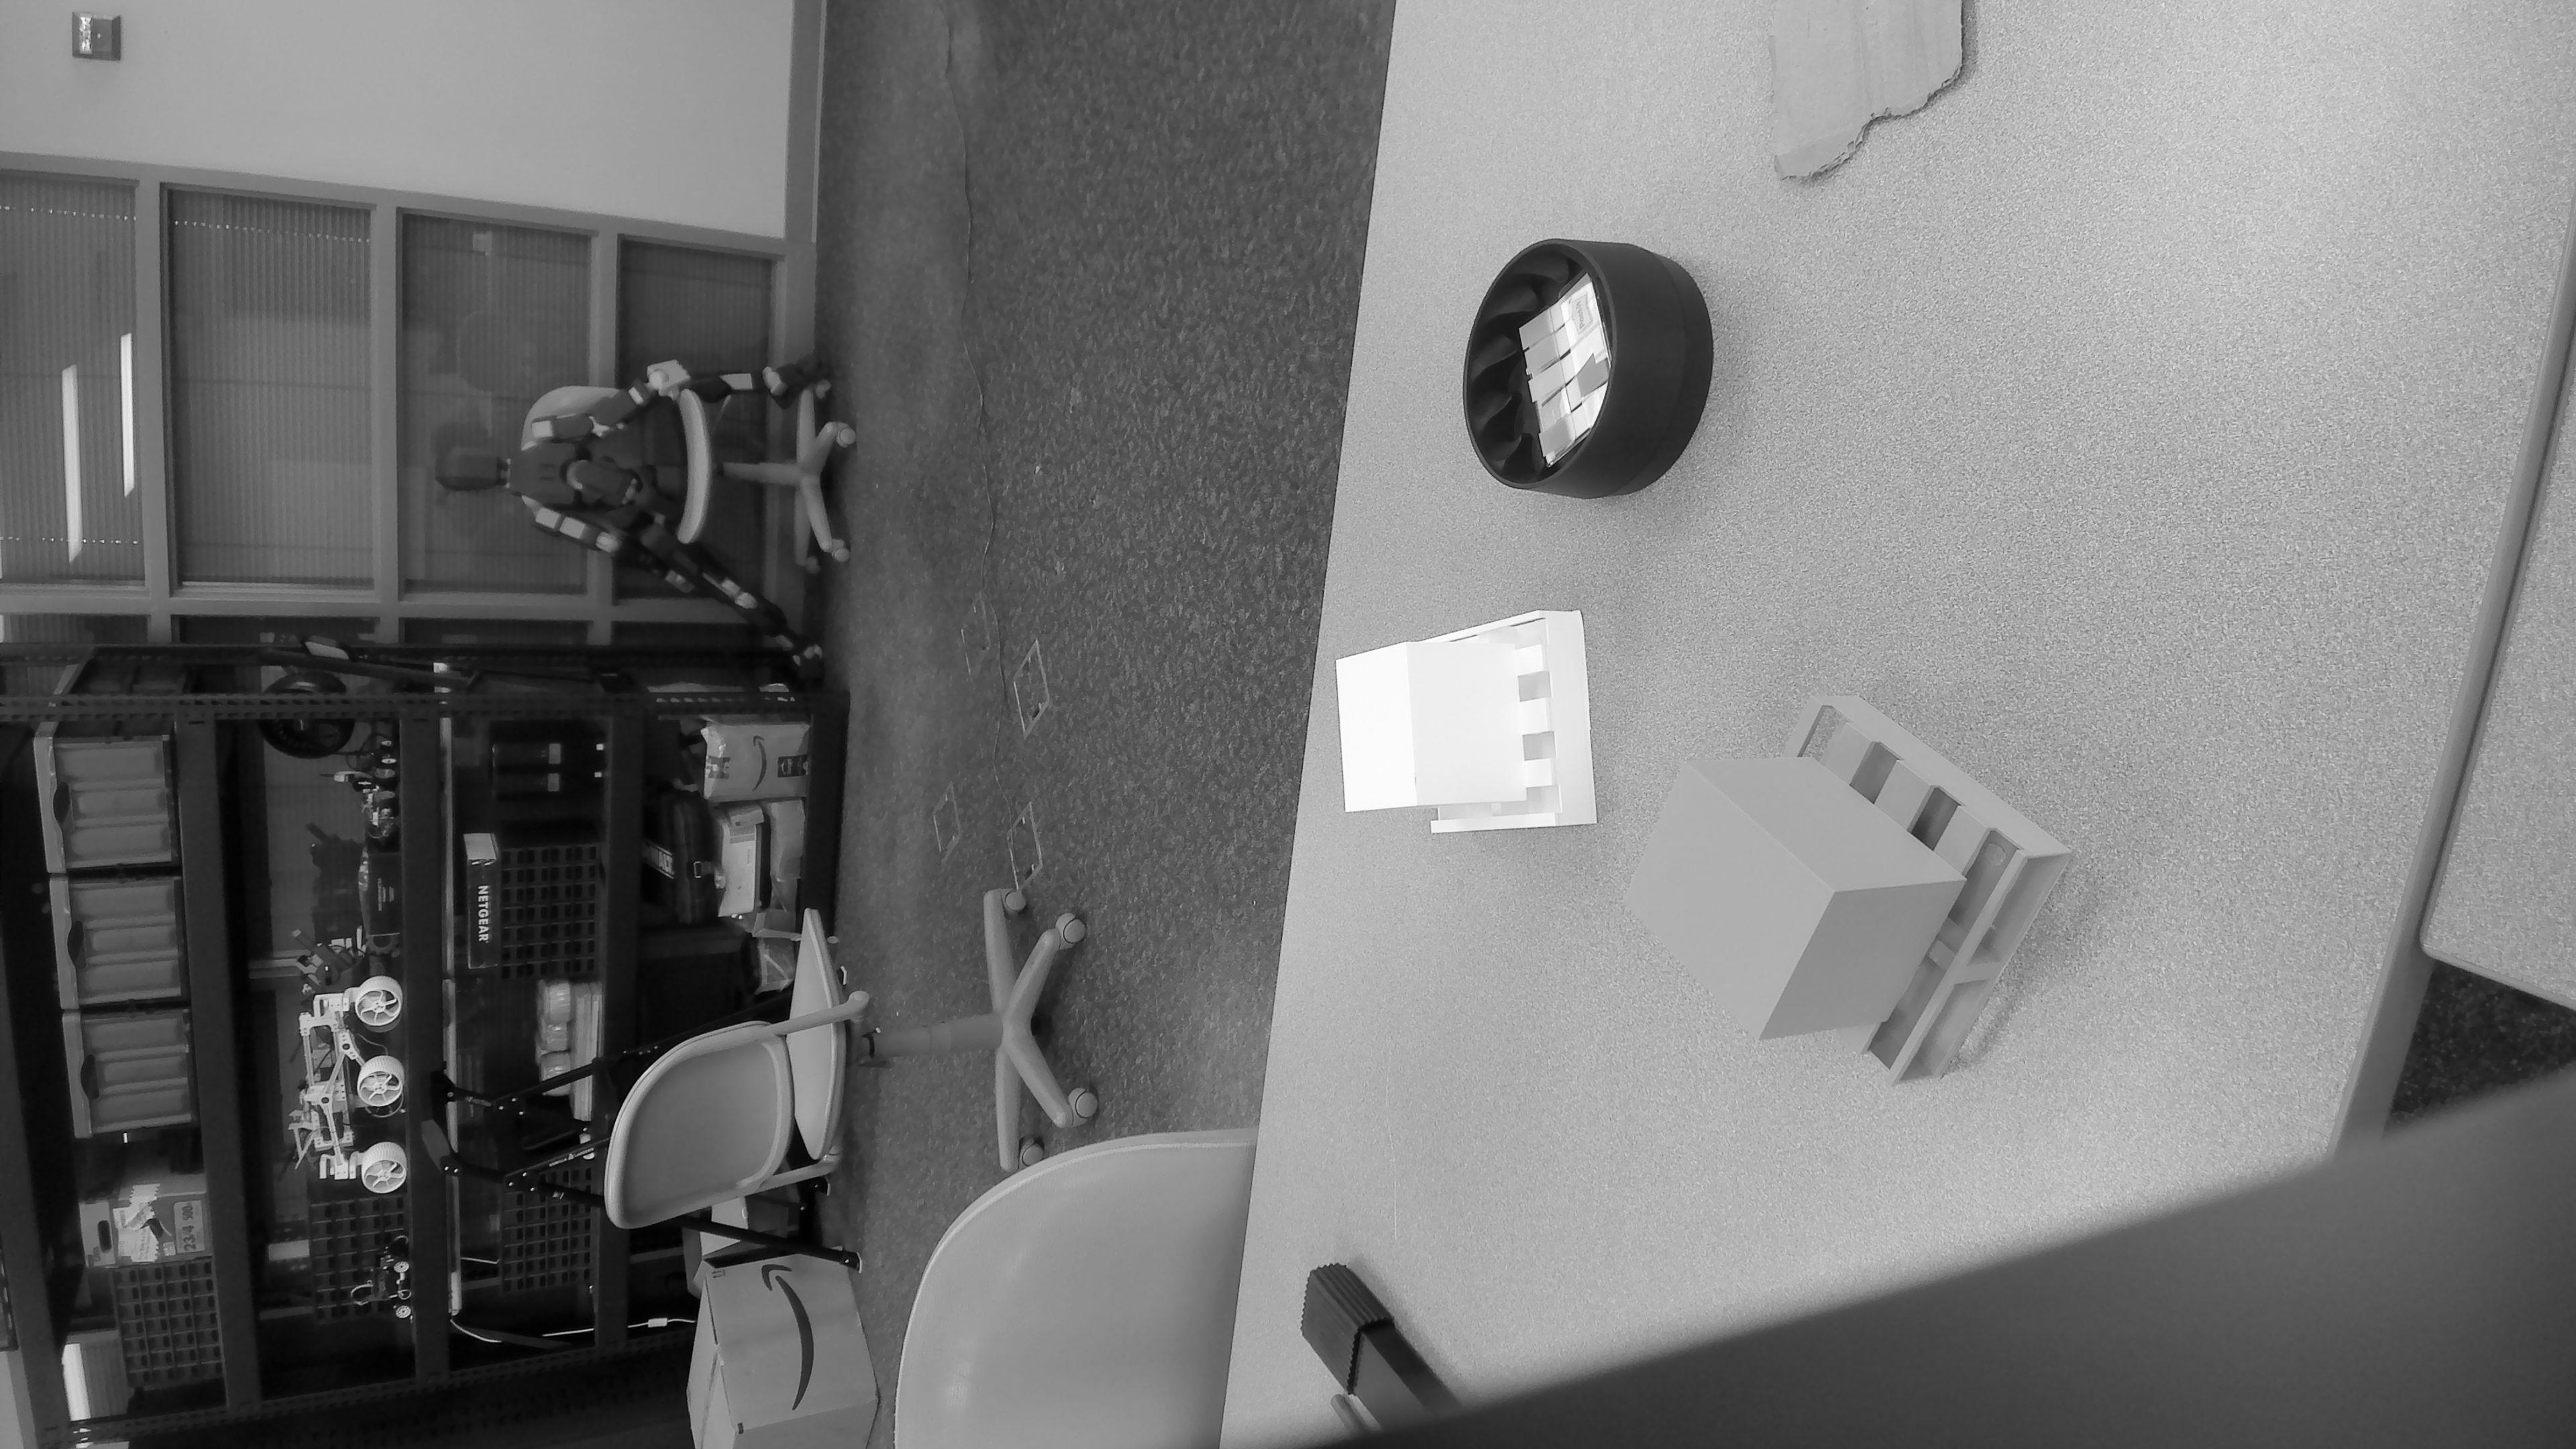grey pallet: (1612, 667, 2079, 1102)
white pallet: (1325, 602, 1605, 839)
